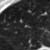node: (26, 8, 33, 15), (41, 10, 48, 17), (18, 18, 24, 23)
